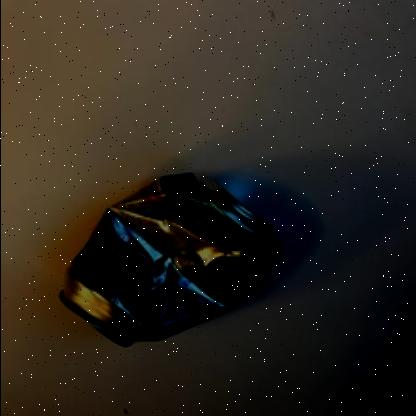Can: (57, 173, 280, 347)
